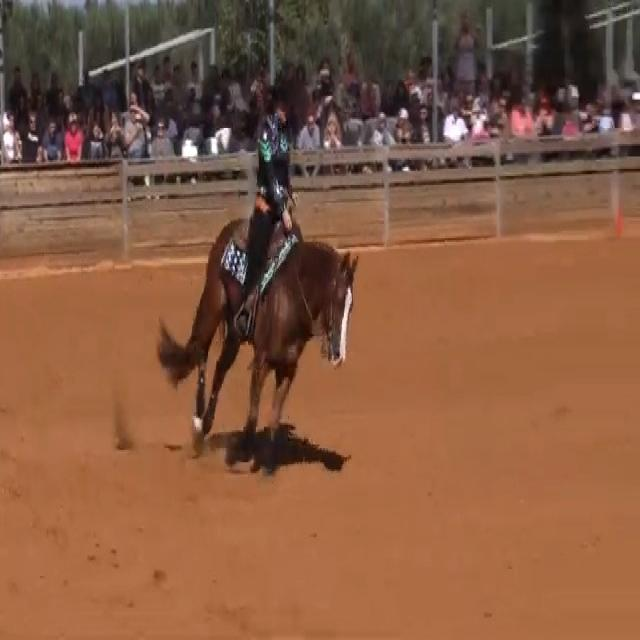horse: (156, 212, 360, 455)
